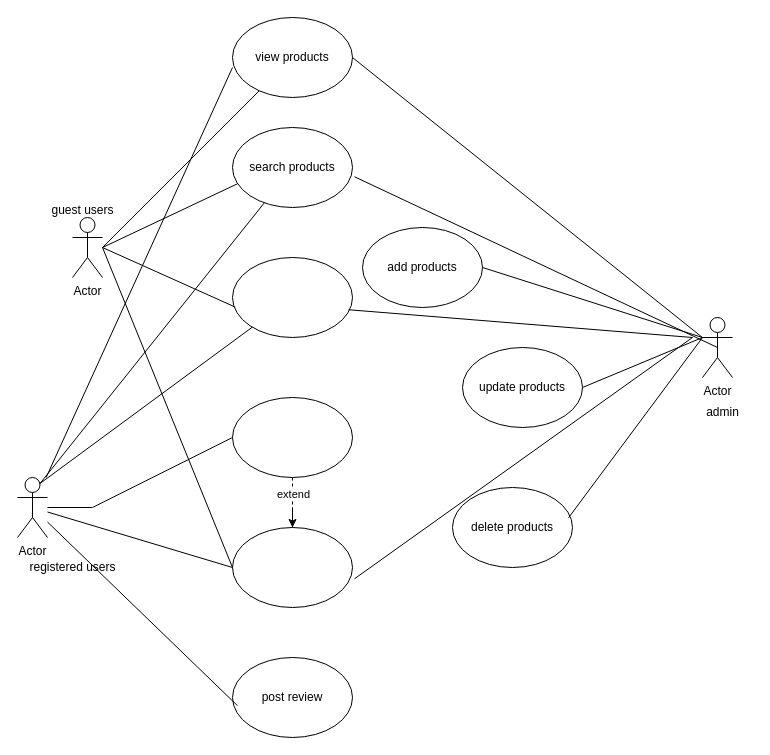
The diagram is 770 pixels wide and 755 high, and some of its shapes have lost their labels. Each missing label, with the centre of its shape:
add product to wishlists: [292,437]
filter products: [292,297]
view products details: [292,567]
